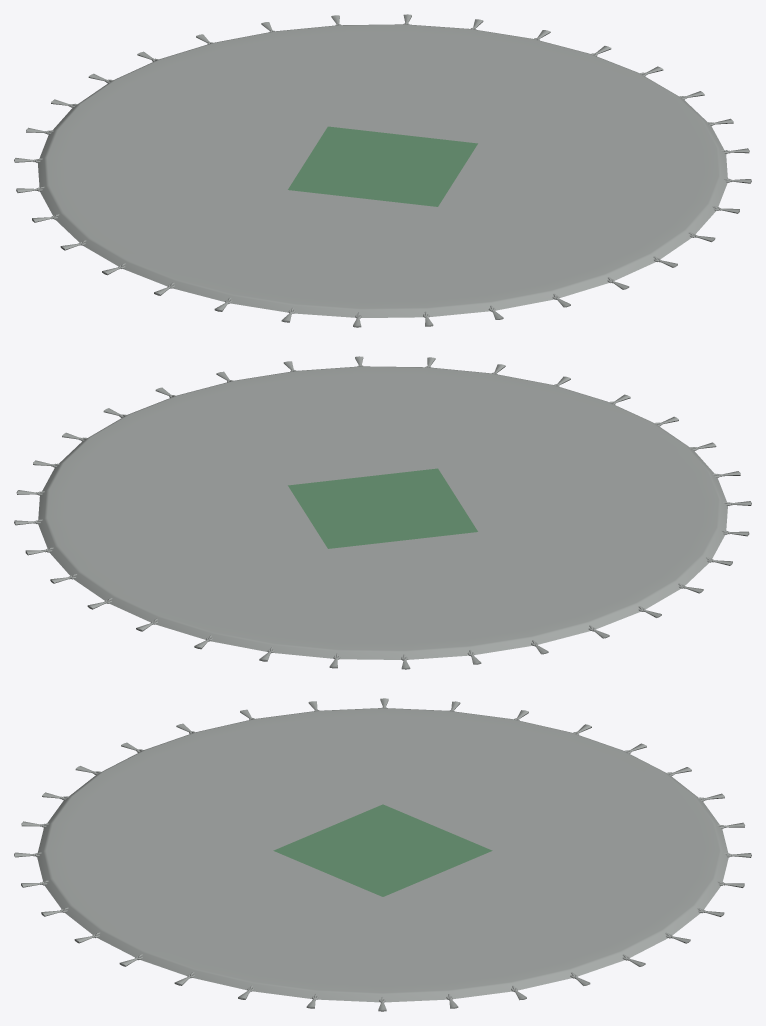
The picture shows the model from 3 angles, top to bottom: view 1: azimuth 30°, elevation 25°; view 2: azimuth 150°, elevation 25°; view 3: azimuth 270°, elevation 25°; orthographic projection.
Parts seen in each view (by area): view 1: G:\FFXIV-MapTools\exports\y6f2\bg\ex5\02_ykt_y6\fld\y6f2\bgp (×4); view 2: G:\FFXIV-MapTools\exports\y6f2\bg\ex5\02_ykt_y6\fld\y6f2\bgp (×4); view 3: G:\FFXIV-MapTools\exports\y6f2\bg\ex5\02_ykt_y6\fld\y6f2\bgp (×4).
Part boxes in pixels (<box>): G:\FFXIV-MapTools\exports\y6f2\bg\ex5\02_ykt_y6\fld\y6f2\bgp (×4): <box>14,14,751,327</box>; G:\FFXIV-MapTools\exports\y6f2\bg\ex5\02_ykt_y6\fld\y6f2\bgp (×4): <box>14,356,751,669</box>; G:\FFXIV-MapTools\exports\y6f2\bg\ex5\02_ykt_y6\fld\y6f2\bgp (×4): <box>14,698,751,1011</box>.
Size of the model in its own units: 14.36 by 0.1306 by 14.36.
